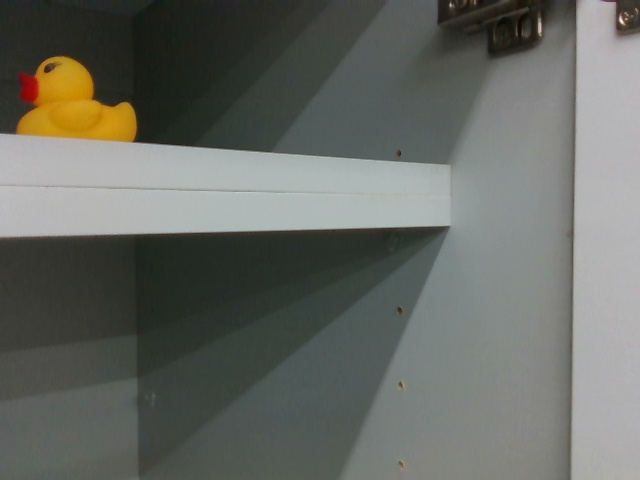duck: (11, 45, 142, 146)
